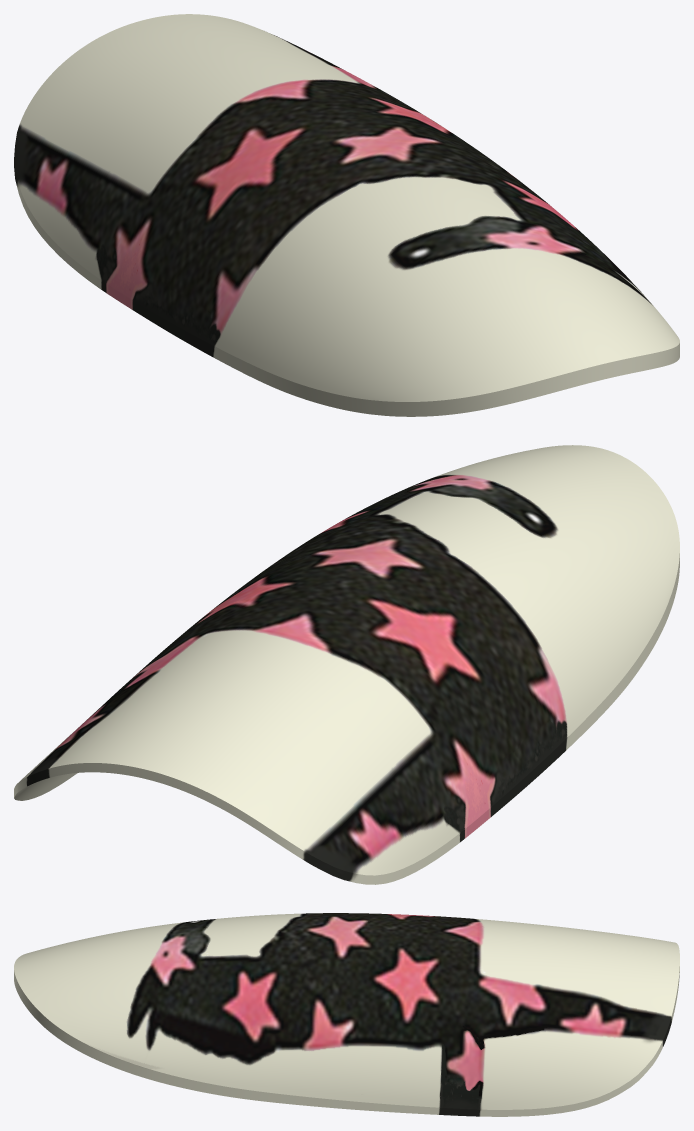
The model's file is MF_Xiao_ma_Zhongzhi_ty03.obj.
3 views of the same model, one above another, from view 1: azimuth 30°, elevation 25°; view 2: azimuth 150°, elevation 25°; view 3: azimuth 270°, elevation 25° (orthographic). The views are drawn at different scales.
Visible parts, largest first — view 1: MF_Xiao_ma_Zhongzhi_ty03MF_Xiao_ma_Zhongzhi_ty03; view 2: MF_Xiao_ma_Zhongzhi_ty03MF_Xiao_ma_Zhongzhi_ty03; view 3: MF_Xiao_ma_Zhongzhi_ty03MF_Xiao_ma_Zhongzhi_ty03.
Boxes of the visible parts, x1,y1,x2,y2 form: MF_Xiao_ma_Zhongzhi_ty03MF_Xiao_ma_Zhongzhi_ty03: (14, 14, 679, 416); MF_Xiao_ma_Zhongzhi_ty03MF_Xiao_ma_Zhongzhi_ty03: (14, 445, 679, 884); MF_Xiao_ma_Zhongzhi_ty03MF_Xiao_ma_Zhongzhi_ty03: (14, 913, 679, 1116).
Size of the model in its own units: 11.98 by 5.49 by 26.36.
Materials: 1 (1 with a texture image).
